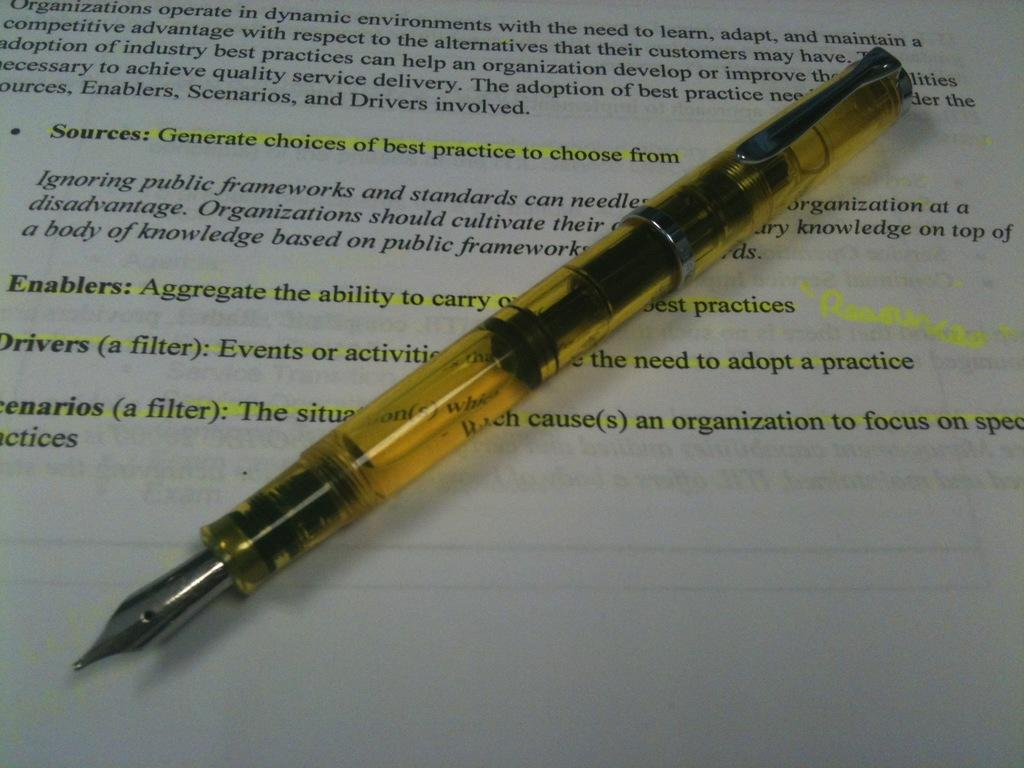pen: (74, 45, 915, 672)
